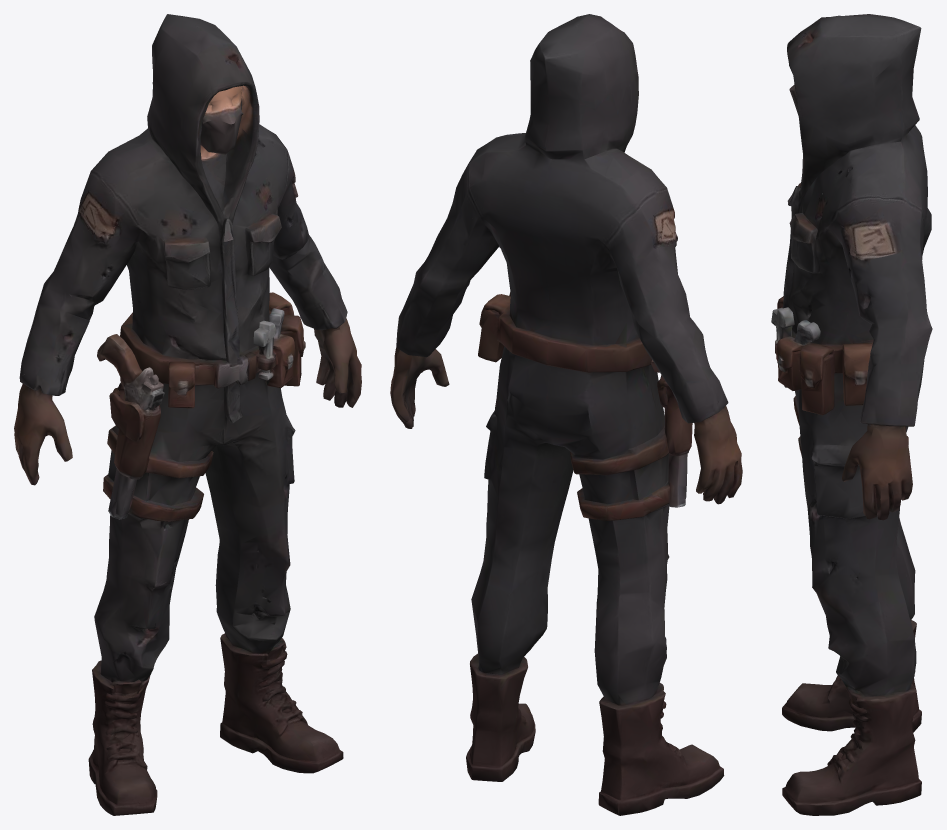
Rendered from char_m_tactical_idle.glb.
3 views of the same model, side by side, from view 1: azimuth 30°, elevation 25°; view 2: azimuth 150°, elevation 25°; view 3: azimuth 270°, elevation 25° (orthographic).
Visible parts, largest first — view 1: tripo_node_24eec298-a46a-4370-9b0d-fa45a210fe6f; view 2: tripo_node_24eec298-a46a-4370-9b0d-fa45a210fe6f; view 3: tripo_node_24eec298-a46a-4370-9b0d-fa45a210fe6f.
Boxes of the visible parts, x1=… form: tripo_node_24eec298-a46a-4370-9b0d-fa45a210fe6f: x1=14, y1=14, x2=361, y2=815; tripo_node_24eec298-a46a-4370-9b0d-fa45a210fe6f: x1=390, y1=14, x2=742, y2=815; tripo_node_24eec298-a46a-4370-9b0d-fa45a210fe6f: x1=771, y1=14, x2=932, y2=815.
Bounding box in the file's own units: 0.8522 × 1.8 × 0.3527.
1 material, 1 textured.
